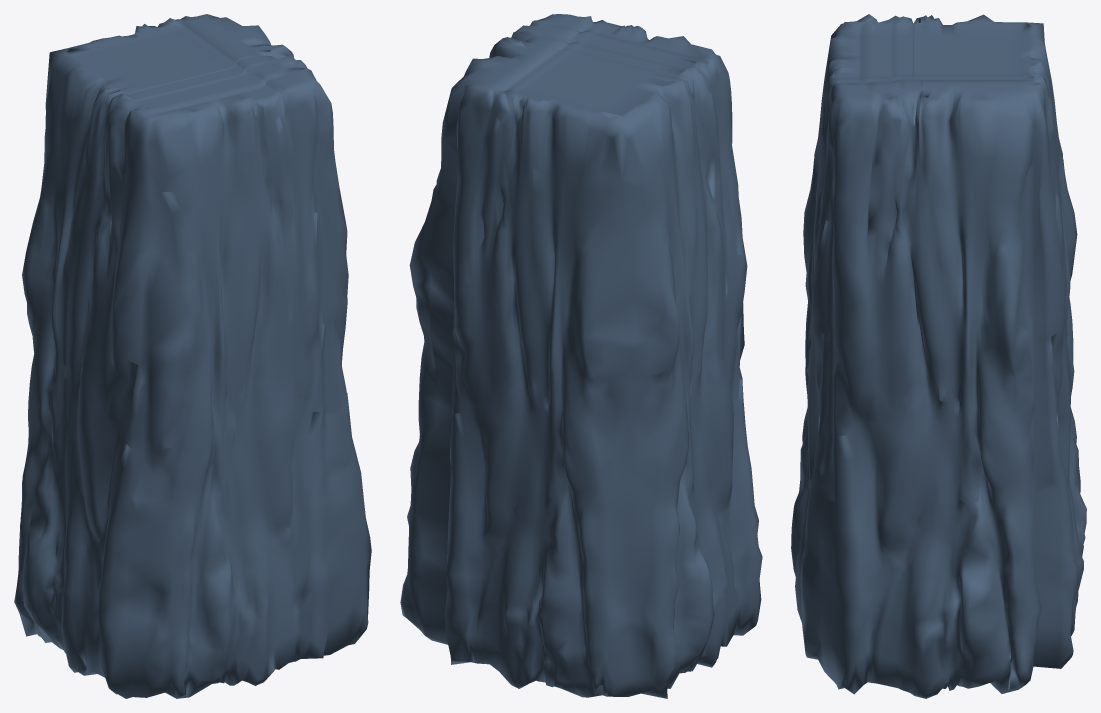
File: Wall.Basic.corner.tower.dae
3 renders of one model, left to right at view 1: azimuth 30°, elevation 25°; view 2: azimuth 150°, elevation 25°; view 3: azimuth 270°, elevation 25°, orthographic.
Parts seen in each view (by area): view 1: Plane.000; view 2: Plane.000; view 3: Plane.000.
Boxes of the visible parts, x1,y1,x2,y2 form: Plane.000: (14, 14, 371, 698); Plane.000: (400, 14, 762, 698); Plane.000: (791, 14, 1086, 698).
Bounding box in the file's own units: 11.24 × 9.61 × 20.79.
